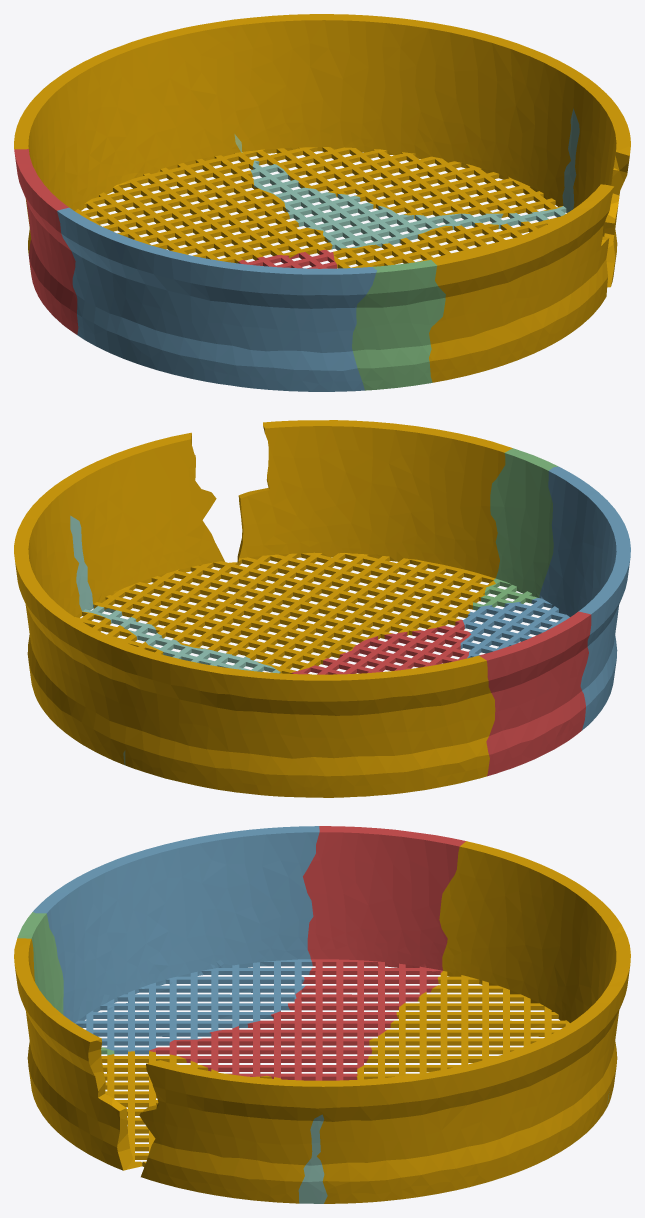
File: fractured_79_6pcs.glb
3 views of the same model, one above another, from view 1: azimuth 30°, elevation 25°; view 2: azimuth 150°, elevation 25°; view 3: azimuth 270°, elevation 25° (orthographic).
Visible parts, largest first — view 1: piece_0.obj, piece_2.obj, piece_3.obj, piece_4.obj, piece_1.obj; view 2: piece_0.obj, piece_1.obj, piece_2.obj, piece_3.obj, piece_4.obj; view 3: piece_0.obj, piece_2.obj, piece_1.obj, piece_3.obj, piece_4.obj.
Part boxes in pixels (<box>): piece_0.obj: <box>14,14,630,382</box>; piece_2.obj: <box>57,207,377,391</box>; piece_3.obj: <box>352,260,445,390</box>; piece_4.obj: <box>250,108,579,250</box>; piece_1.obj: <box>14,149,337,334</box>; piece_0.obj: <box>14,420,512,797</box>; piece_1.obj: <box>291,611,591,776</box>; piece_2.obj: <box>460,466,630,730</box>; piece_3.obj: <box>473,448,558,610</box>; piece_4.obj: <box>70,515,280,673</box>; piece_0.obj: <box>14,841,630,1203</box>; piece_2.obj: <box>33,826,319,1054</box>; piece_1.obj: <box>149,826,465,1080</box>; piece_3.obj: <box>17,912,114,1055</box>; piece_4.obj: <box>298,1114,327,1203</box>.
Size of the model in its own units: 1 by 0.2226 by 0.9999.
